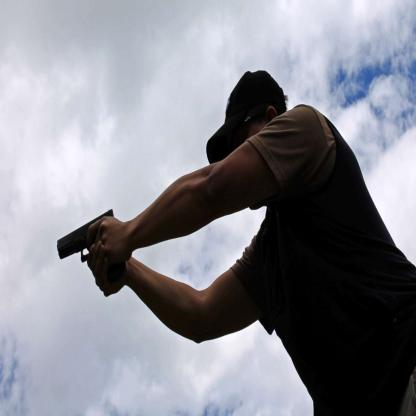handgun: (56, 207, 114, 264)
